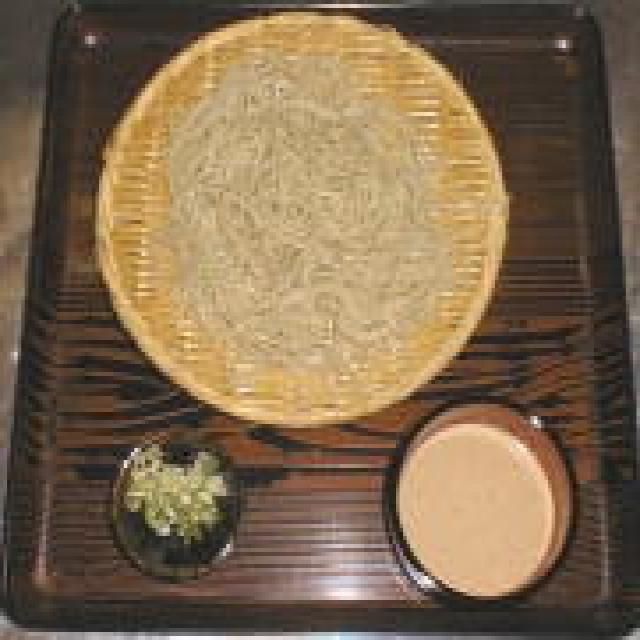面条主食: (71, 0, 516, 420)
